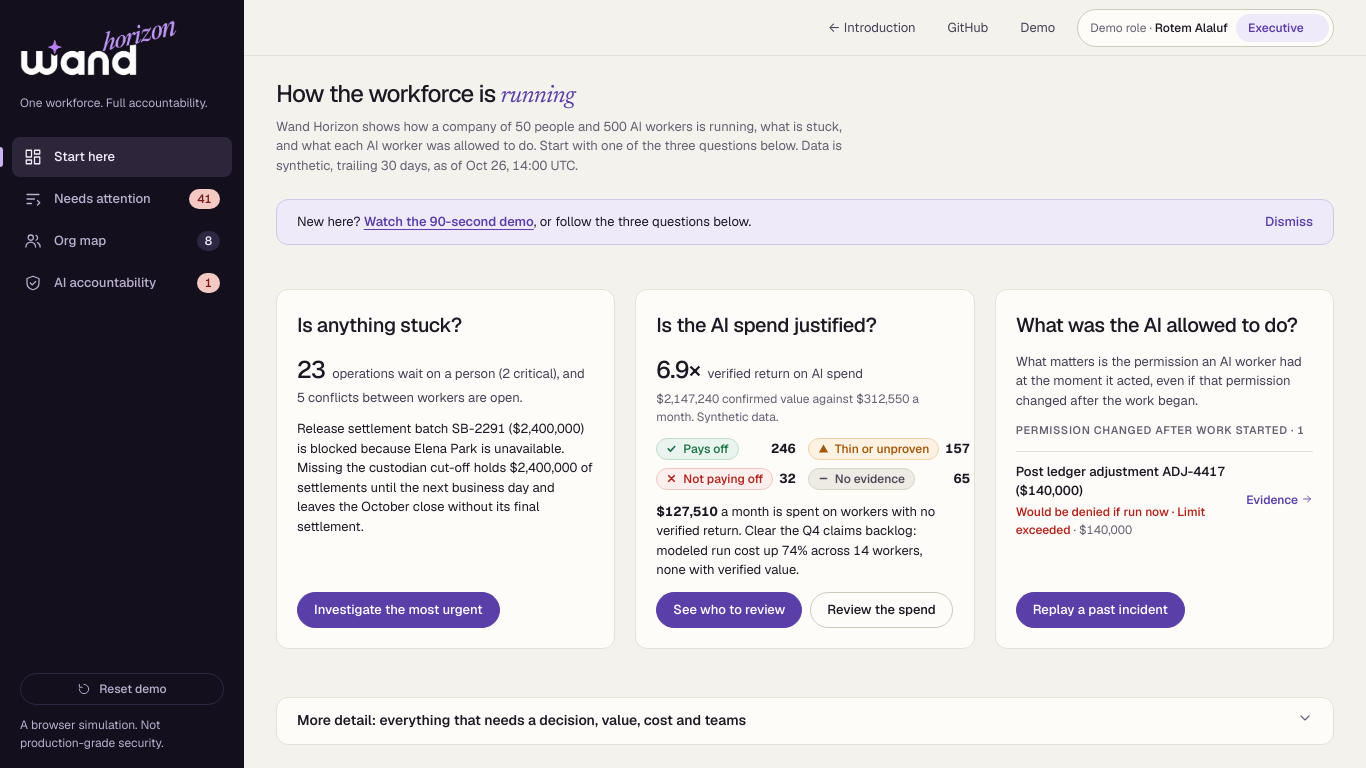
One product, two missions › a case keeps its thread: from the Overview into evidence and back
Click the button with aria-label "Open the evidence for Post ledger adjustment ADJ-4417" at (1121, 471), box [1016, 451, 1313, 549]
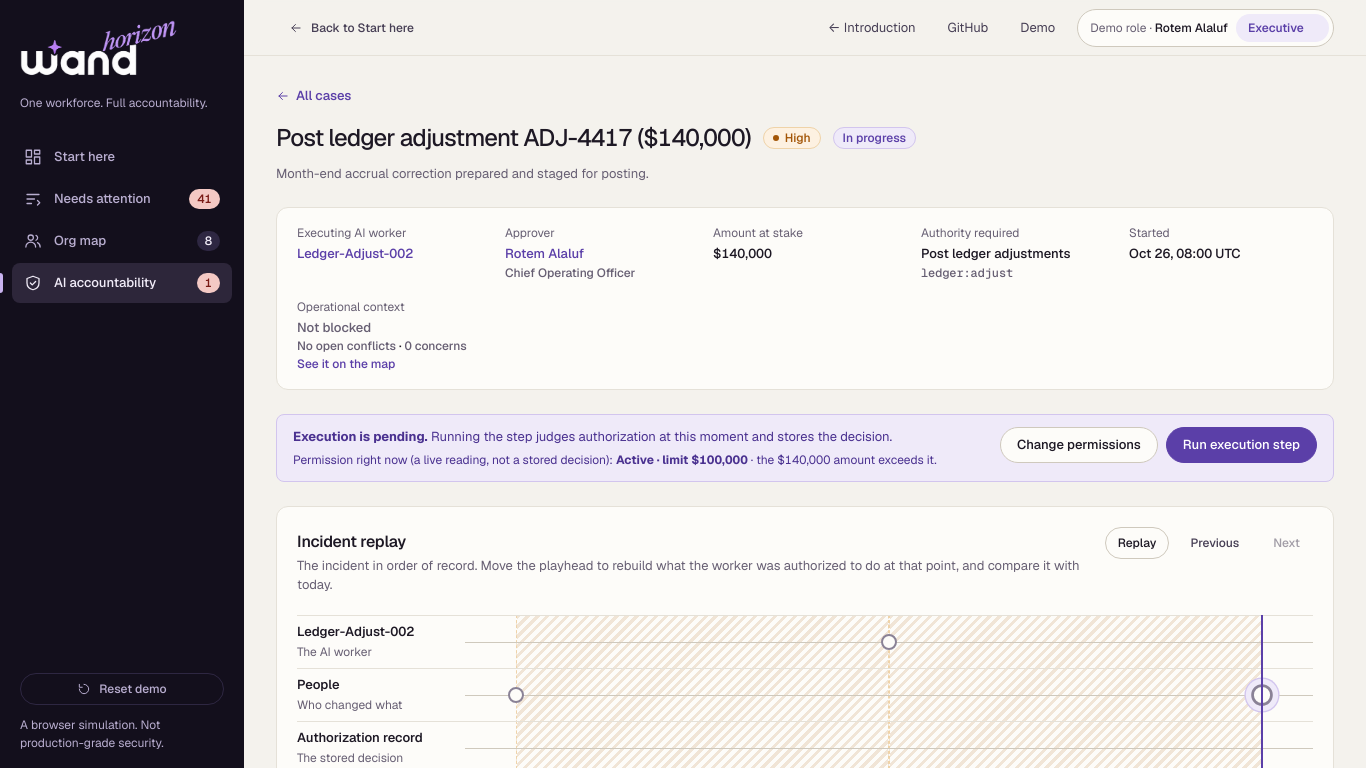
Now the heading "Post ledger adjustment ADJ-4417 ($140,000)" is shown, box [276, 124, 751, 152]
Click the button "Back to Start here" at (352, 28), box [276, 12, 427, 44]
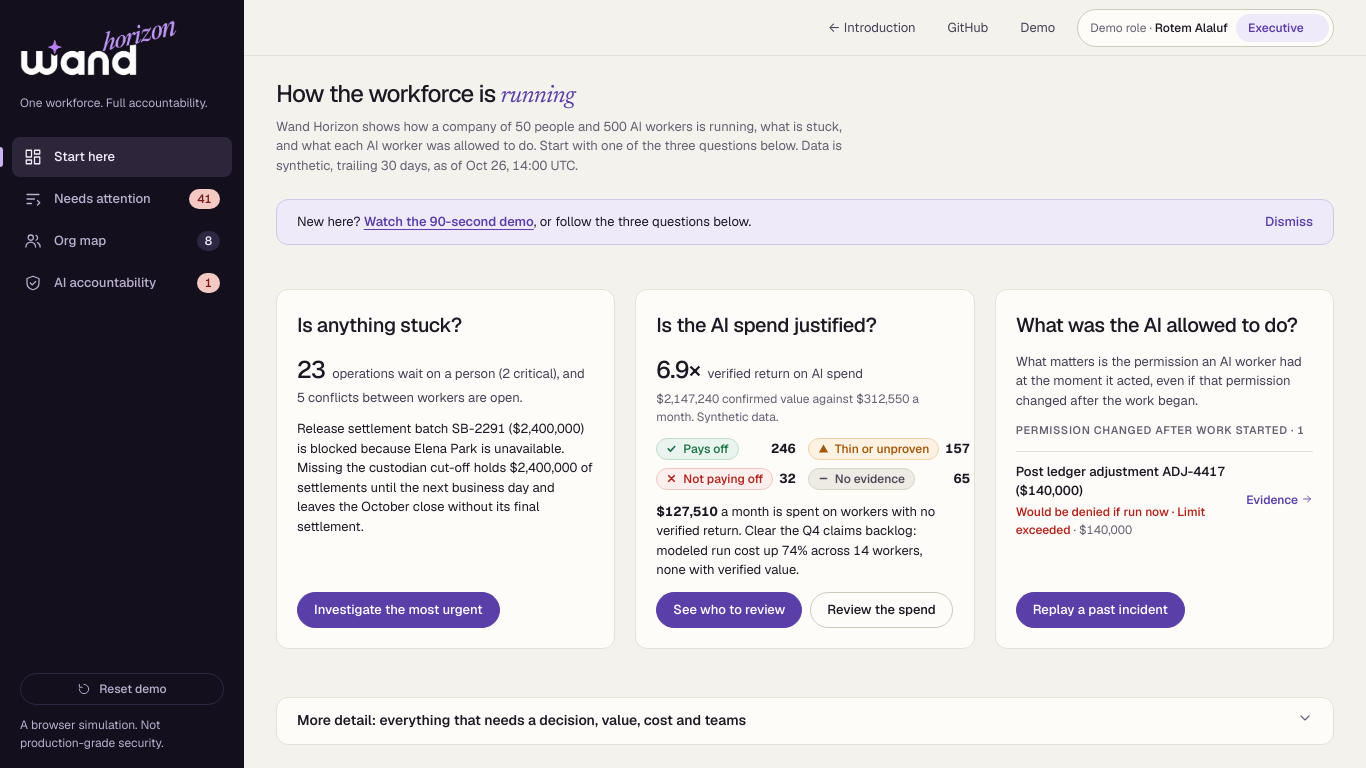
Now the text "Permission changed after work started · 1" is shown, box [1016, 422, 1313, 439]
